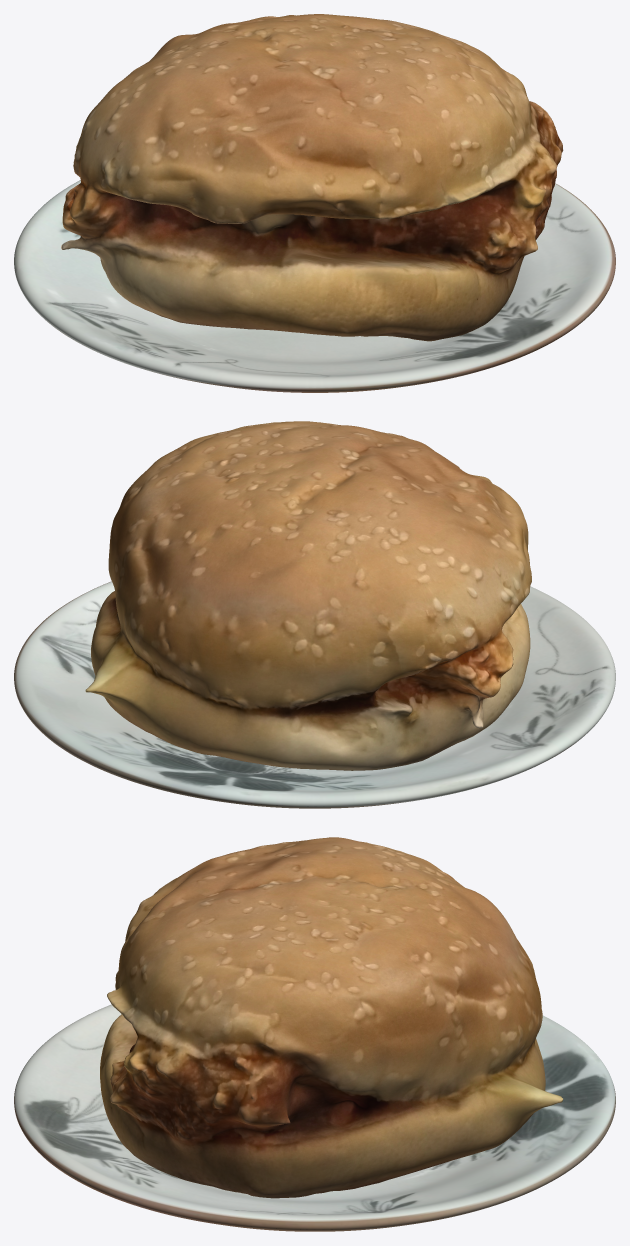
File: burger.glb
The picture shows the model from 3 angles, top to bottom: view 1: azimuth 30°, elevation 25°; view 2: azimuth 150°, elevation 25°; view 3: azimuth 270°, elevation 25°; orthographic projection.
Visible parts, largest first — view 1: 3DModel, geometry_0; view 2: 3DModel, geometry_0; view 3: 3DModel, geometry_0.
Boxes of the visible parts, x1,y1,x2,y2 form: 3DModel: [61, 14, 563, 341]; geometry_0: [14, 180, 615, 392]; 3DModel: [85, 421, 531, 770]; geometry_0: [14, 581, 615, 808]; 3DModel: [100, 837, 562, 1198]; geometry_0: [14, 1004, 615, 1231].
Size of the model in its own units: 0.7038 by 0.357 by 0.7038.
2 materials, 2 textured.
